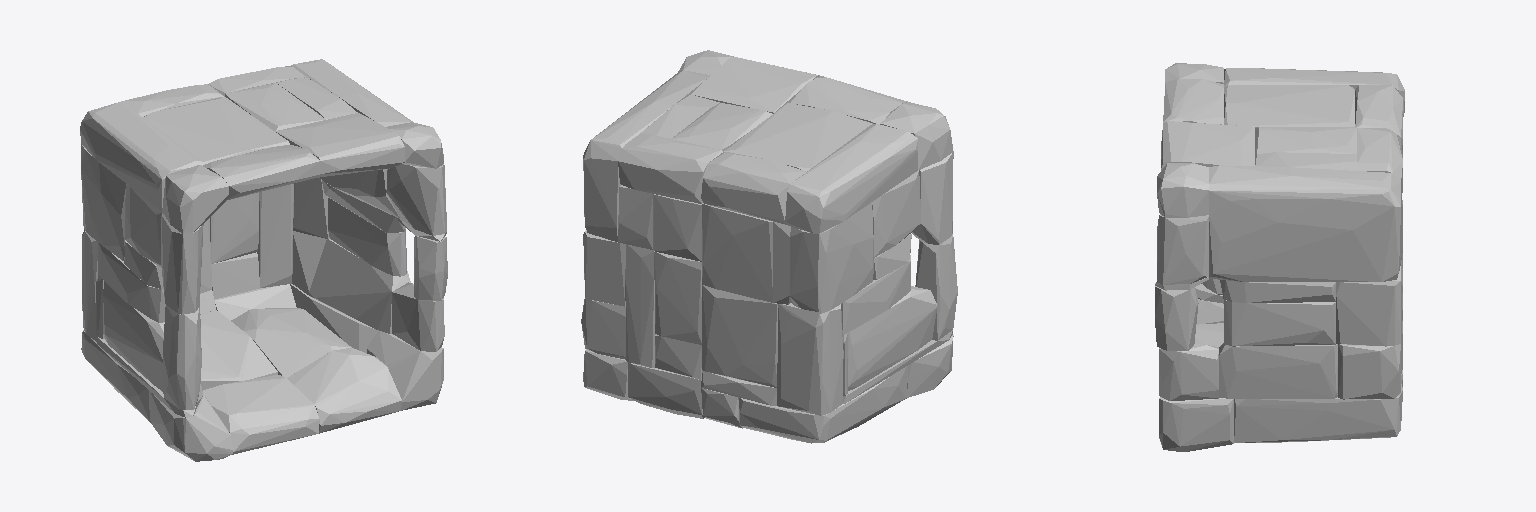
File: model_ZU6u5fvE8Z1_vhacd.obj
The picture shows the model from 3 angles: view 1: azimuth 30°, elevation 25°; view 2: azimuth 150°, elevation 25°; view 3: azimuth 270°, elevation 25°; orthographic projection.
Parts seen in each view (by area): view 1: convex_10, convex_14, convex_4, convex_25, convex_18, convex_40, convex_27, convex_0, convex_12, convex_45, convex_36, convex_15 (+28 smaller); view 2: convex_10, convex_5, convex_23, convex_22, convex_0, convex_9, convex_25, convex_45, convex_1, convex_24, convex_17, convex_18 (+24 smaller); view 3: convex_0, convex_13, convex_40, convex_25, convex_46, convex_41, convex_18, convex_15, convex_19, convex_39, convex_30, convex_10 (+11 smaller).
Part boxes in pixels (x1,y1,x2,y2): convex_10: (80,102,204,210); convex_14: (287,348,401,433); convex_4: (203,375,319,454); convex_25: (143,96,289,163); convex_18: (275,113,404,177); convex_40: (309,239,410,333); convex_27: (231,308,351,377); convex_0: (291,59,413,218); convex_12: (203,145,320,200); convex_45: (103,281,164,391); convex_36: (163,305,201,409); convex_15: (367,331,443,410); convex_10: (785,124,917,233); convex_5: (777,303,843,415); convex_23: (790,202,873,313); convex_22: (702,285,777,387); convex_0: (583,70,710,241); convex_9: (702,203,772,302); convex_25: (724,103,872,171); convex_45: (848,286,937,390); convex_1: (738,366,907,443); convex_24: (701,152,805,224); convex_17: (618,134,722,203); convex_18: (691,56,819,113); convex_0: (1209,165,1402,281); convex_13: (1234,384,1402,442); convex_40: (1219,343,1337,398); convex_25: (1224,85,1354,127); convex_46: (1224,300,1335,346); convex_41: (1336,266,1400,346); convex_18: (1161,121,1254,170); convex_15: (1159,397,1233,451); convex_19: (1157,214,1208,284); convex_39: (1338,344,1400,399); convex_30: (1159,343,1218,400); convex_10: (1224,68,1404,116).
Bounding box in the file's own units: 0.2734 × 0.2715 × 0.2202.